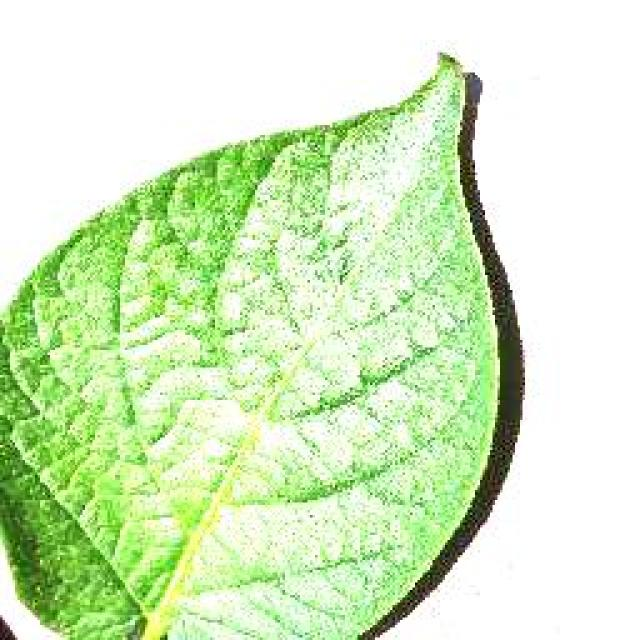Potato___healthy: (0, 48, 502, 638)
